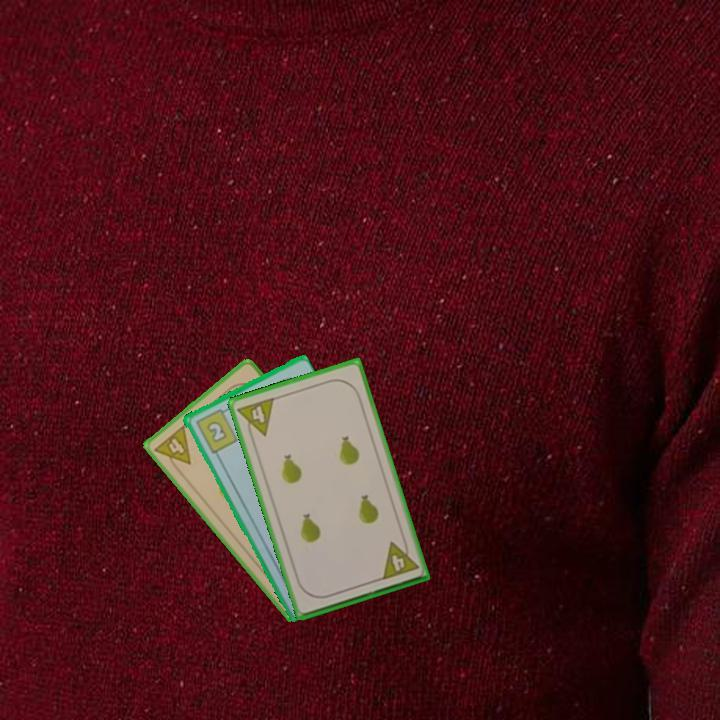2b: (192, 404, 240, 456)
4p: (151, 421, 194, 476), (234, 394, 277, 443), (378, 535, 421, 583)
